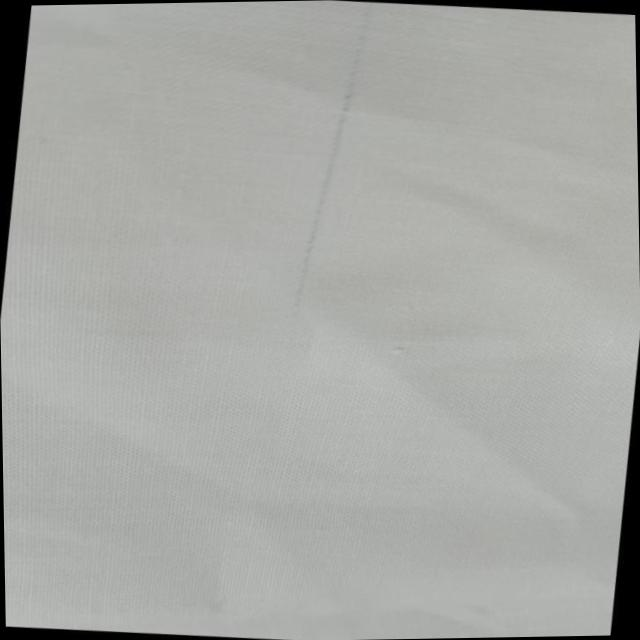contamination: (273, 0, 385, 325)
